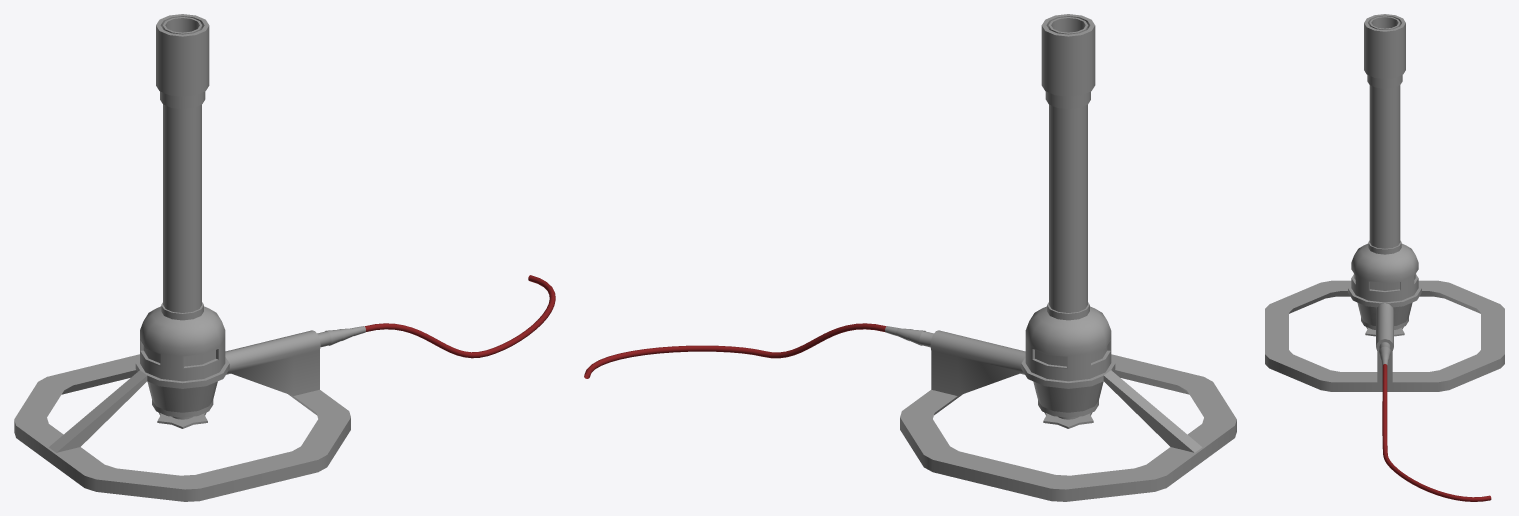
File: bunsen burner.fbx
The picture shows the model from 3 angles, left to right: view 1: azimuth 30°, elevation 25°; view 2: azimuth 150°, elevation 25°; view 3: azimuth 270°, elevation 25°; orthographic projection. The views are drawn at different scales.
Parts seen in each view (by area): view 1: Bunsen_Burner, Pipe; view 2: Bunsen_Burner, Pipe; view 3: Bunsen_Burner, Pipe.
Part boxes in pixels (box(x1,y1,x2,y2)): Bunsen_Burner: box(14, 14, 365, 501); Pipe: box(365, 275, 555, 358); Bunsen_Burner: box(885, 14, 1236, 501); Pipe: box(584, 323, 886, 378); Bunsen_Burner: box(1265, 14, 1504, 391); Pipe: box(1382, 364, 1491, 501).
Bounding box in the file's own units: 451 × 316 × 216.
